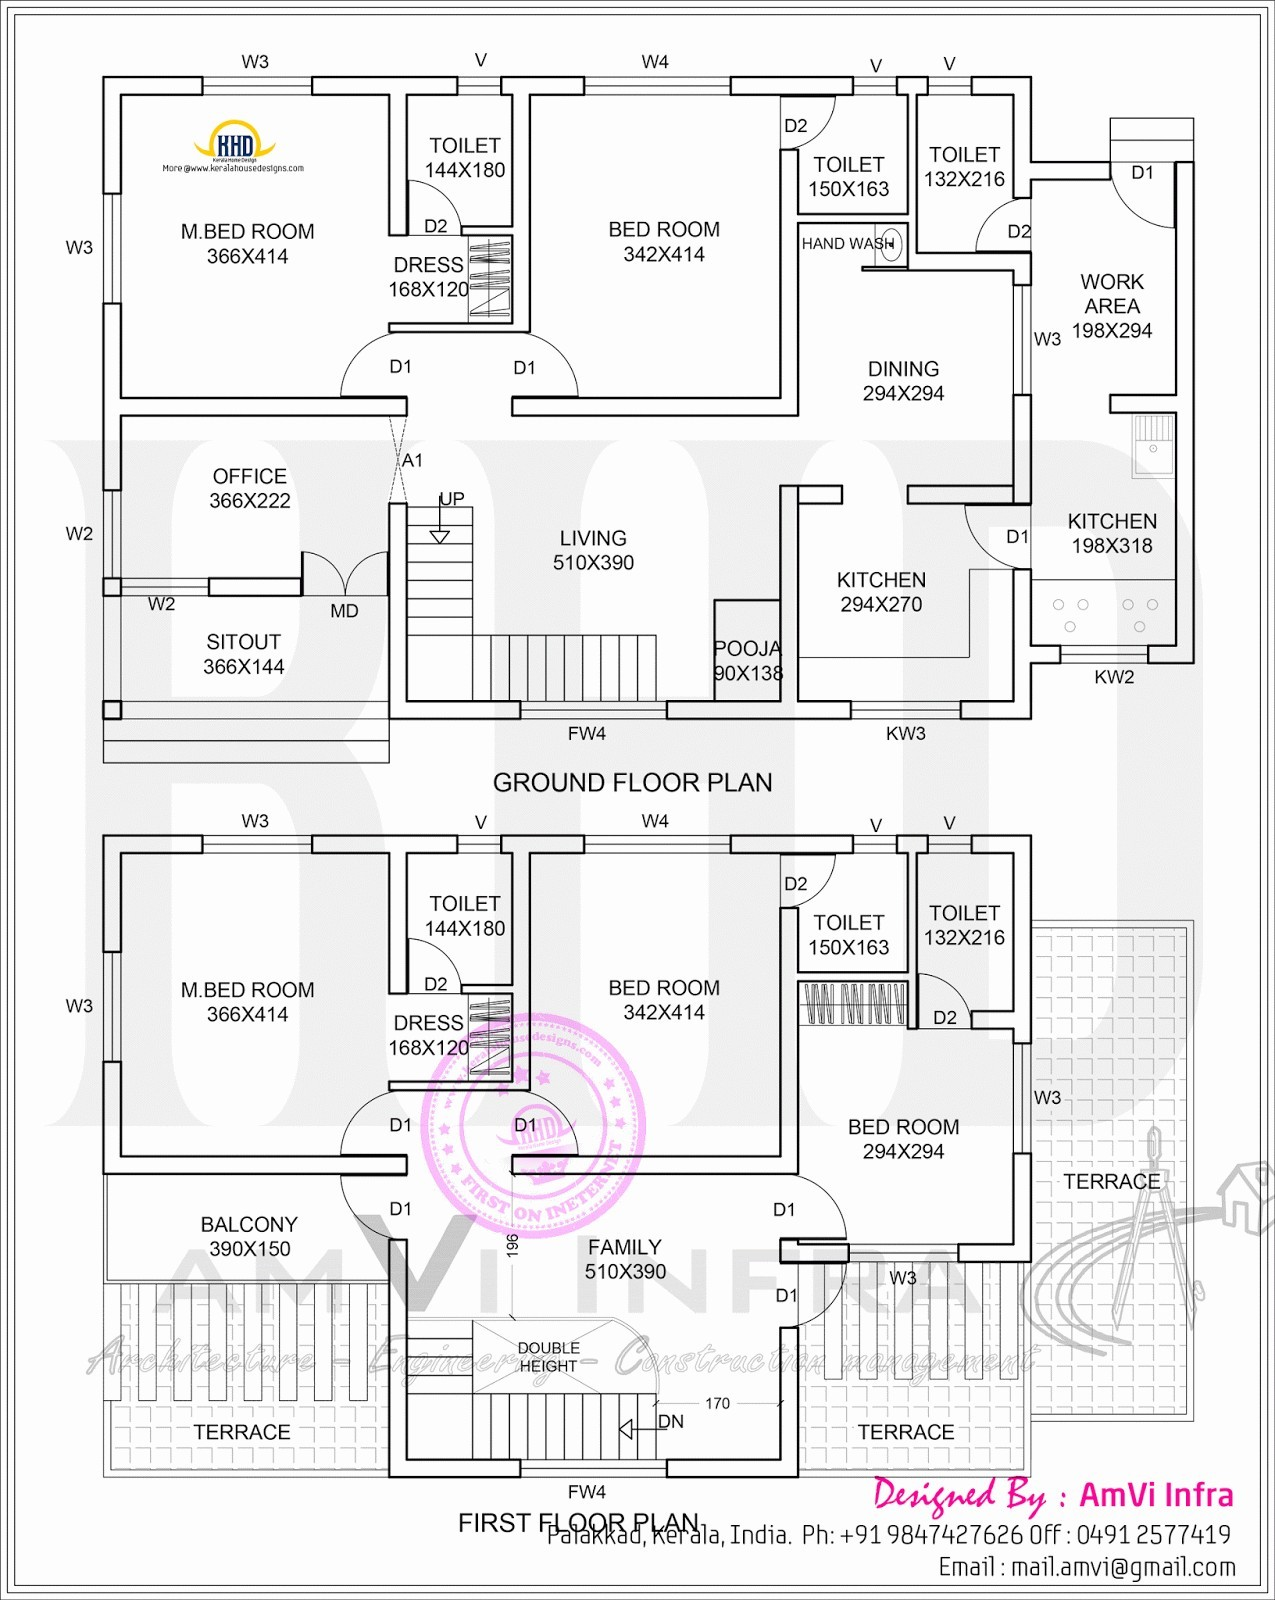door: (301, 548, 390, 594), (1111, 170, 1176, 232), (338, 1087, 392, 1159), (799, 1169, 852, 1240), (338, 332, 390, 399), (530, 330, 579, 399), (340, 1173, 388, 1238), (800, 1260, 850, 1323), (961, 503, 1008, 565), (406, 180, 461, 232), (407, 935, 459, 987), (794, 94, 837, 148), (917, 972, 971, 1015), (974, 200, 1017, 252), (801, 852, 839, 903)
